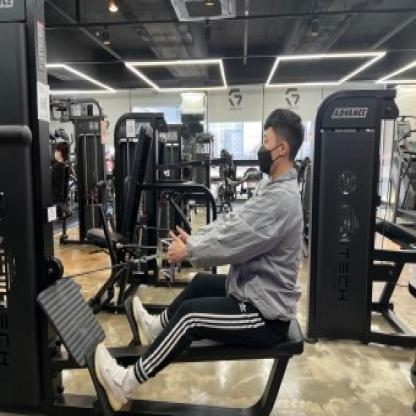Seated Cable Rows: (5, 0, 314, 416)
